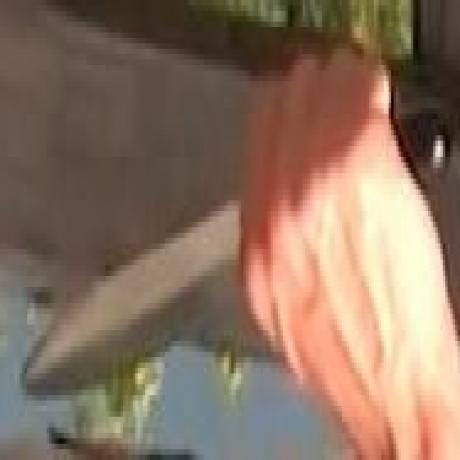1: (232, 42, 460, 460)
weapon: (19, 192, 249, 406)
